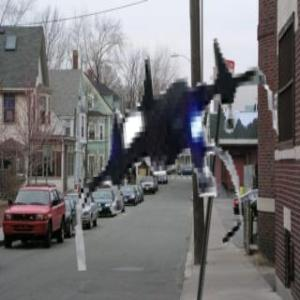drone: (54, 33, 285, 264)
